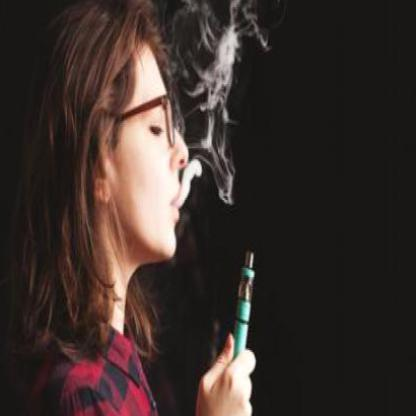cigarette: (233, 249, 257, 358)
person: (24, 0, 188, 415)
smoke: (196, 4, 243, 208)
